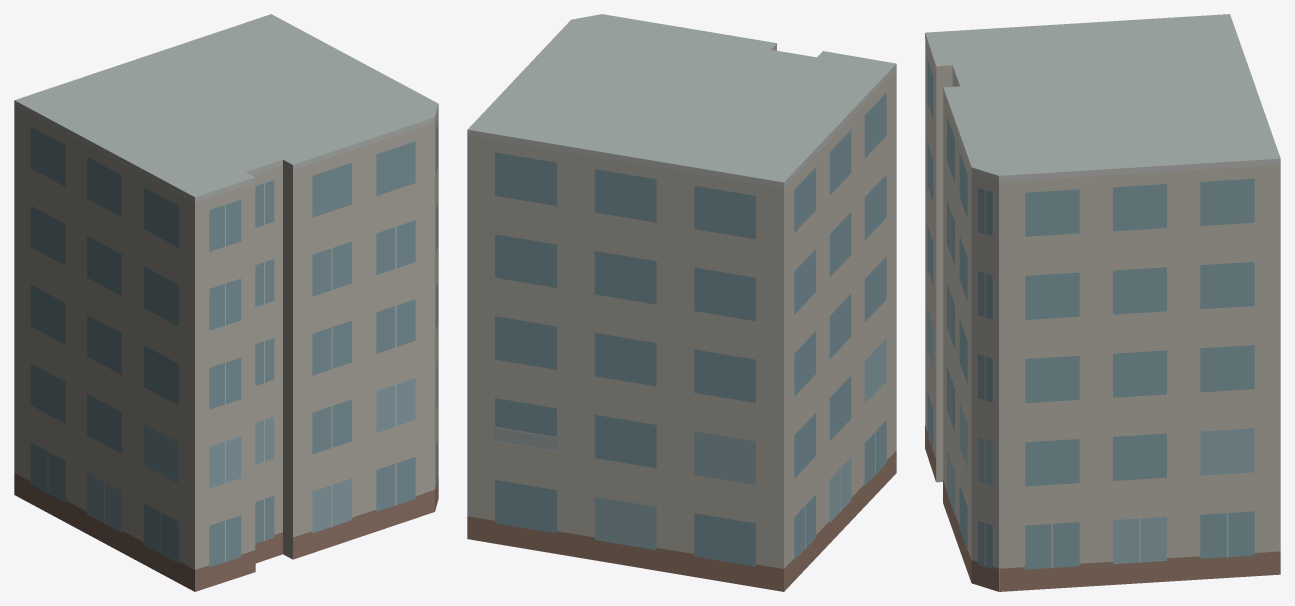
File: survey-upis-32945866.glb
3 renders of one model, left to right at view 1: azimuth 30°, elevation 25°; view 2: azimuth 150°, elevation 25°; view 3: azimuth 270°, elevation 25°, orthographic. The views are drawn at different scales.
Visible parts, largest first — view 1: survey-upis-32945866.tmp; view 2: survey-upis-32945866.tmp; view 3: survey-upis-32945866.tmp.
Part boxes in pixels (box(x1,y1,x2,y2)): survey-upis-32945866.tmp: box(14, 14, 438, 591); survey-upis-32945866.tmp: box(467, 14, 896, 591); survey-upis-32945866.tmp: box(925, 14, 1280, 591).
Bounding box in the file's own units: 14.03 × 16.8 × 13.03.
